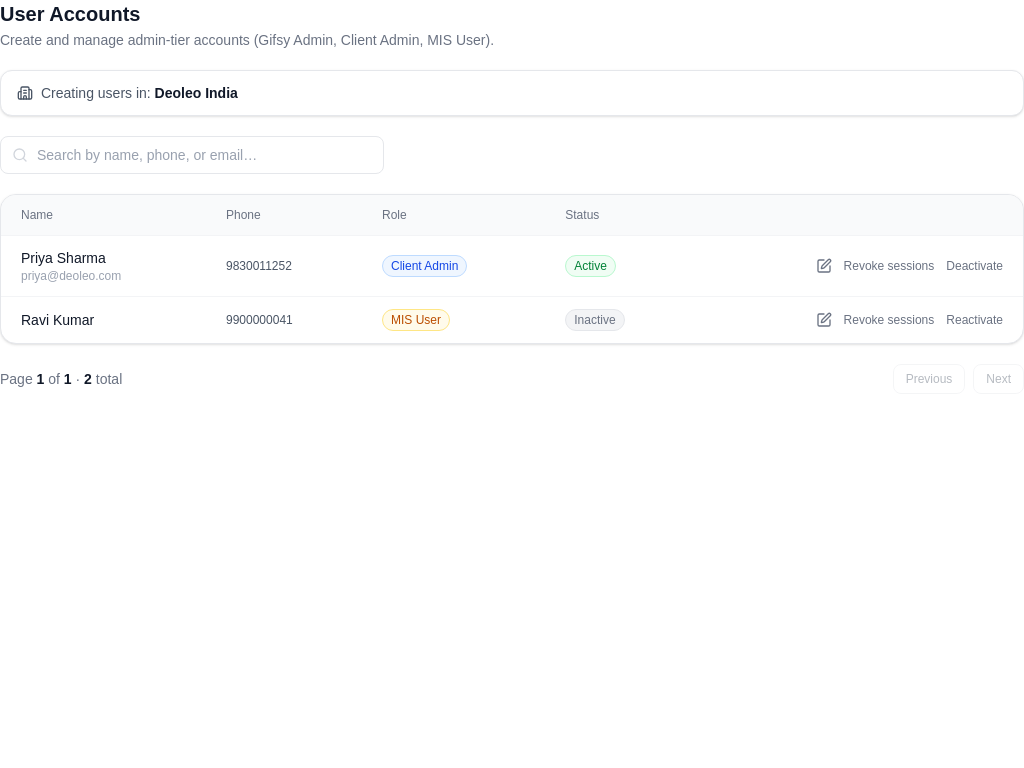
Test case: Admin User Accounts page › AU6: "Revoke sessions" opens a confirm modal and POSTs /api/admin/users/:id/revoke-sessions
Expected: the text "Priya Sharma" is shown, [21,250,106,266]
# Open the confirm modal from Ravi Kumar's (u2) row.
What coordinates should you click on to do the following:
click the button "Revoke sessions" in the row of "Ravi Kumar"
I would click on:
 (889, 320)
Its box is [844,312,934,328].
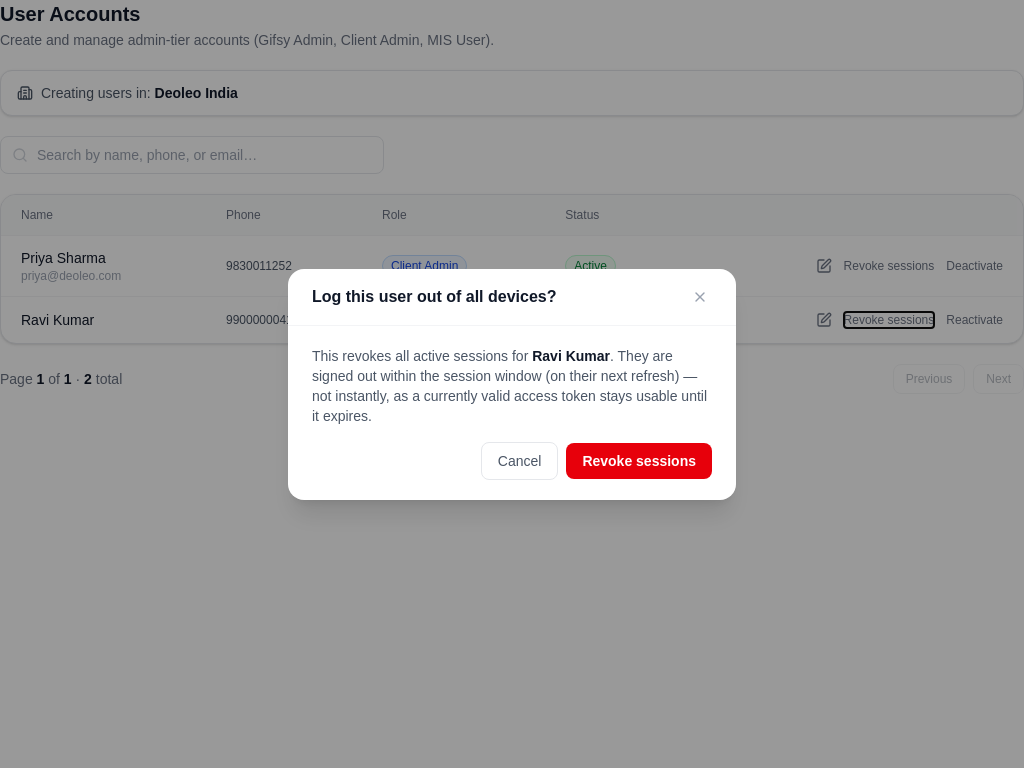
Expected: the heading "Log this user out of all devices?" is shown, [312,284,556,308]
What coordinates should you click on to do the following:
click the button "Revoke sessions"
I would click on:
 (639, 460)
Its box is [566,442,712,478].
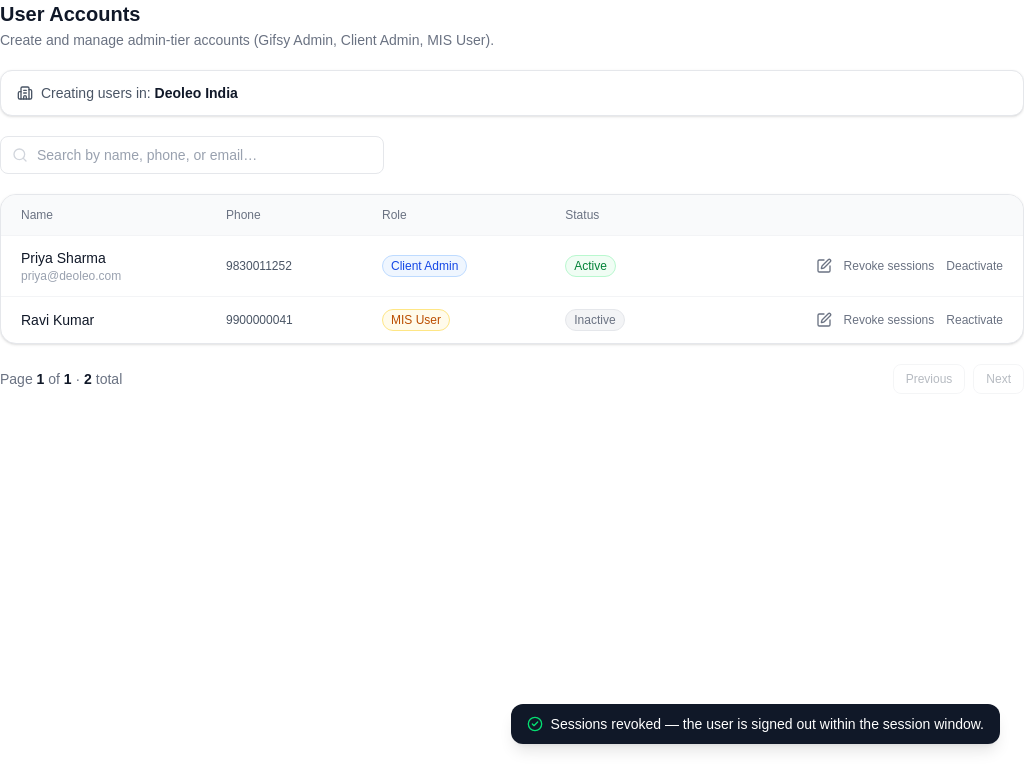
Expected: the dialog is gone
